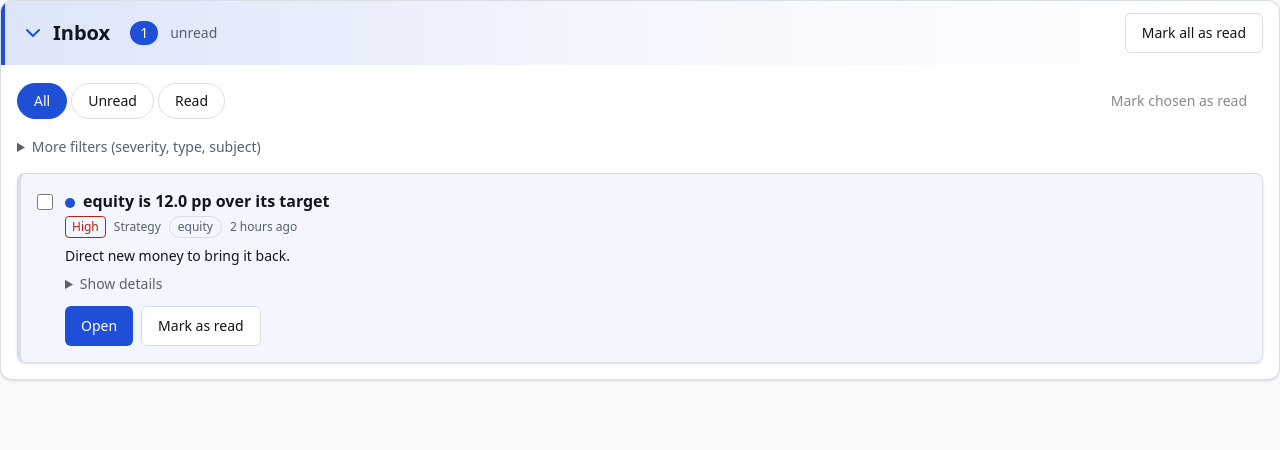
Scenario: an inbox item as a card › leads with the title and what it is, then a one-line summary, with the rest as details
This screenshot has width=1280, height=450.
Check: the heading "equity is 12.0 pp over its target" is shown, box [65,189,386,212]
Check: the text "High" is shown, box [65,216,106,238]
Click the heading "Show details" at (121, 284), box [80,274,162,293]
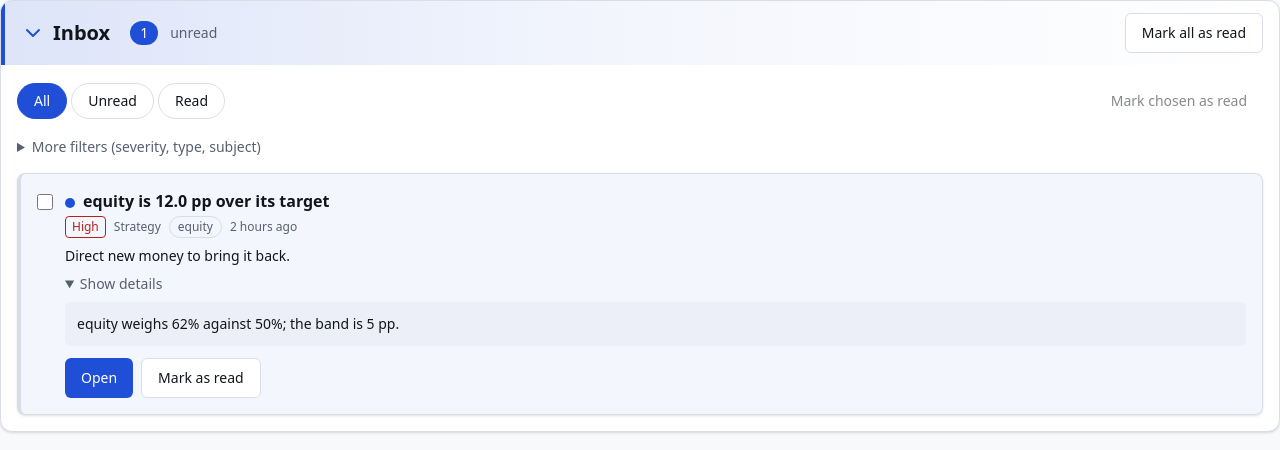
Check: the text "equity weighs 62% against 50%; the band is 5 pp." is shown, box [77,314,399,333]
